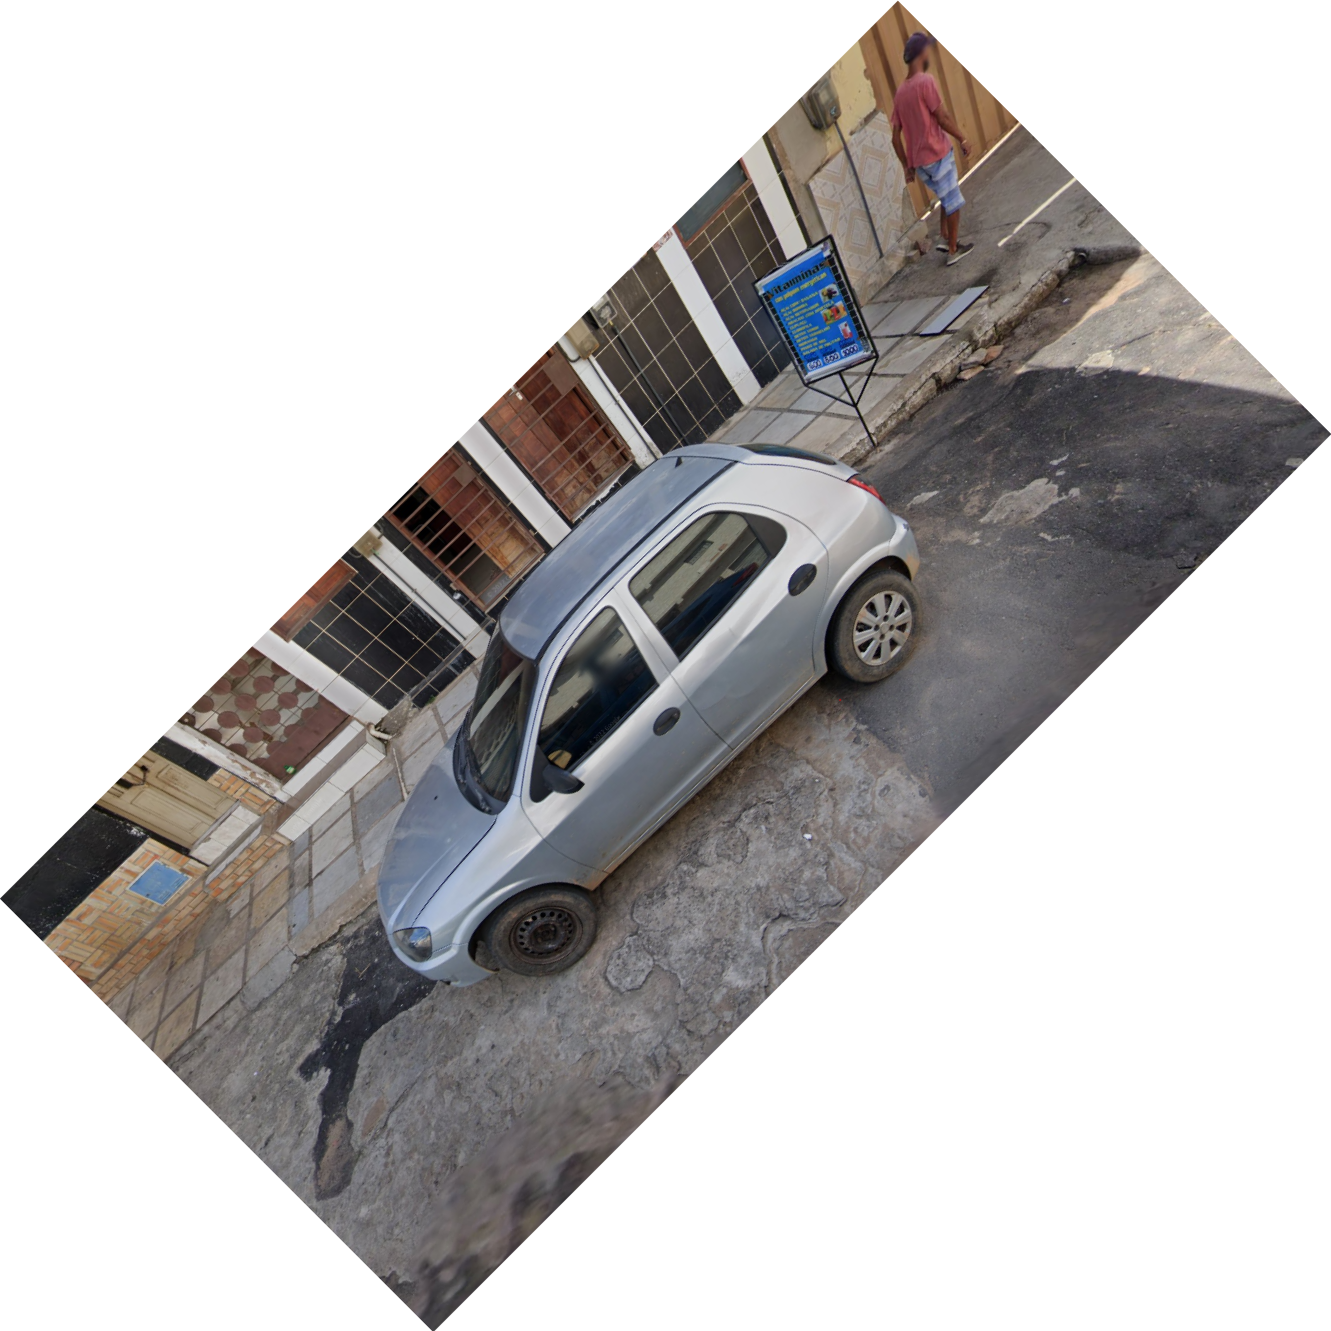car: (371, 431, 937, 995)
